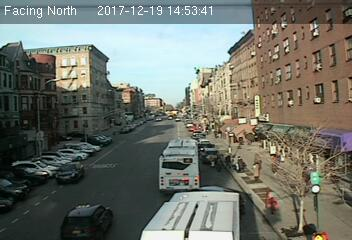bus: (157, 139, 201, 194)
car: (60, 203, 118, 238), (52, 163, 86, 184), (201, 147, 221, 161)
pedestrian: (252, 159, 261, 181)
